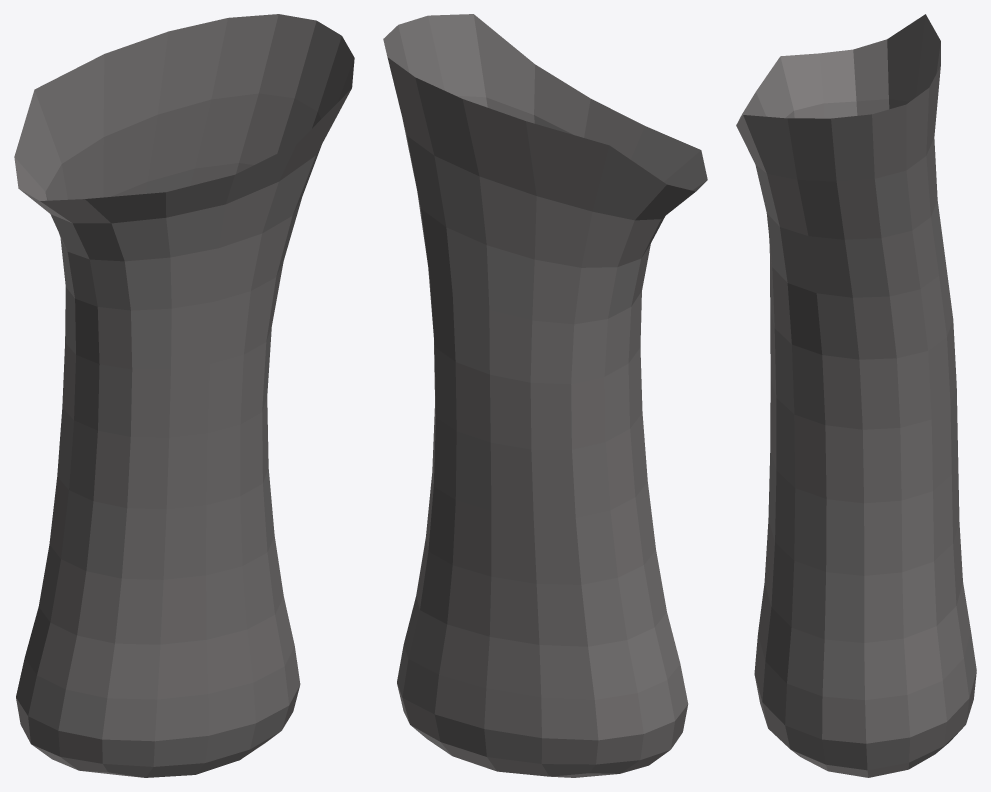
File: DerTrasDos.obj
3 views of the same model, side by side, from view 1: azimuth 30°, elevation 25°; view 2: azimuth 150°, elevation 25°; view 3: azimuth 270°, elevation 25° (orthographic). The views are drawn at different scales.
Visible parts, largest first — view 1: DerTras1:Mesh1; view 2: DerTras1:Mesh1; view 3: DerTras1:Mesh1.
Boxes of the visible parts, x1,y1,x2,y2 form: DerTras1:Mesh1: (14,14,354,777); DerTras1:Mesh1: (383,14,707,777); DerTras1:Mesh1: (736,14,976,777).
Size of the model in its own units: 0.4452 by 0.9431 by 0.2926.
1 material, 1 textured.
